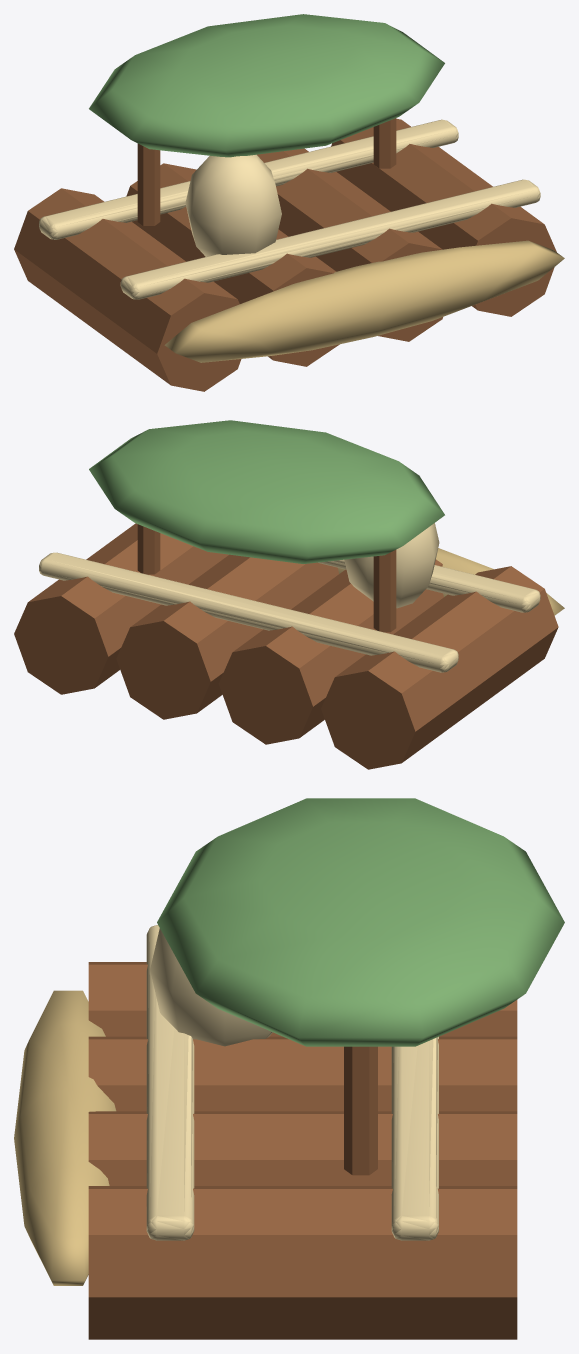
The model's file is DW_Craft_B.fbx.
3 renders of one model, top to bottom at view 1: azimuth 30°, elevation 25°; view 2: azimuth 150°, elevation 25°; view 3: azimuth 270°, elevation 25°, orthographic. The views are drawn at different scales.
Parts seen in each view (by area): view 1: DW_Craft_B; view 2: DW_Craft_B; view 3: DW_Craft_B.
Boxes of the visible parts, x1,y1,x2,y2 form: DW_Craft_B: (14, 14, 564, 391); DW_Craft_B: (14, 420, 564, 769); DW_Craft_B: (14, 798, 564, 1339).
Bounding box in the file's own units: 1.04 × 0.57 × 0.81.
